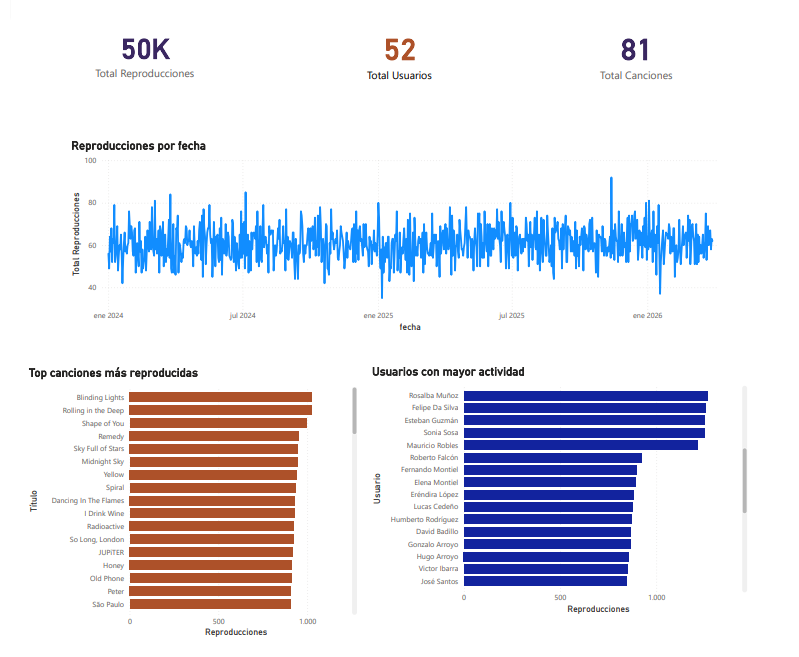

The page's visual inventory and layout, read from the dashboard file:
{"tool":"powerbi","page":{"name":"Page 1","canvas":[1280,1200],"ordinal":0},"visuals":[{"type":"card","fields":{"Values":["artistas.Total Reproducciones"]},"box":[80.6,77.3,280.5,280.5],"z":0},{"type":"card","fields":{"Values":["artistas.Total canciones"]},"box":[888.6,77.3,282.2,282.2],"z":1000},{"type":"card","fields":{"Values":["artistas.Total Usuarios"]},"box":[498.9,77.3,282.2,282.2],"z":2000},{"type":"lineChart","title":"Reproducciones por fecha","fields":{"Y":["artistas.Total Reproducciones"],"Category":["reproducciones.fecha"]},"box":[94.6,358.5,1090.5,323.7],"z":3000},{"type":"clusteredBarChart","title":"Top canciones más reproducidas","fields":{"Y":["CountNonNull(reproducciones.id_reproduccion)"],"Category":["canciones.titulo"]},"box":[25,733.3,550,451.7],"z":4000},{"type":"clusteredBarChart","title":"Usuarios con mayor actividad","fields":{"Category":["usuarios.nombre"],"Y":["CountNonNull(reproducciones.id_reproduccion)"]},"box":[589.7,731,627.6,417.2],"z":5000}]}

Visuals, with their boxes on the page's 1280x1200 design canvas (x1, y1, x2, y2). These are canvas units, not pixel positions in the 799x657 screenshot, which may show the page scaled, cropped or inside an application window:
card - artistas.Total Reproducciones: {"left": 81, "top": 77, "right": 361, "bottom": 358}
card - artistas.Total canciones: {"left": 889, "top": 77, "right": 1171, "bottom": 360}
card - artistas.Total Usuarios: {"left": 499, "top": 77, "right": 781, "bottom": 360}
"Reproducciones por fecha" lineChart: {"left": 95, "top": 358, "right": 1185, "bottom": 682}
"Top canciones más reproducidas" clusteredBarChart: {"left": 25, "top": 733, "right": 575, "bottom": 1185}
"Usuarios con mayor actividad" clusteredBarChart: {"left": 590, "top": 731, "right": 1217, "bottom": 1148}
